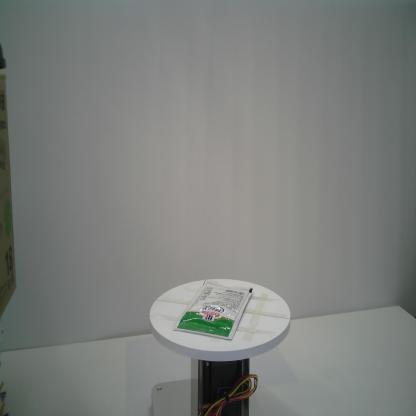Seasoner: (173, 277, 253, 341)
